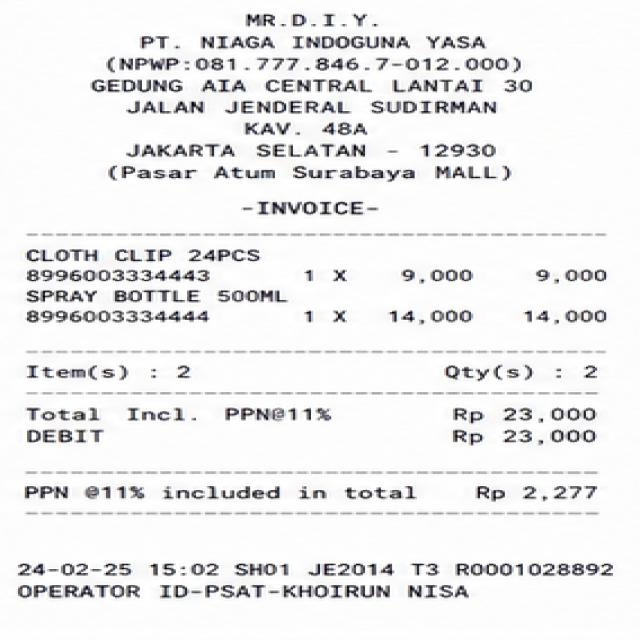date: (8, 560, 230, 580)
store: (209, 11, 405, 33)
total: (8, 402, 603, 425)
